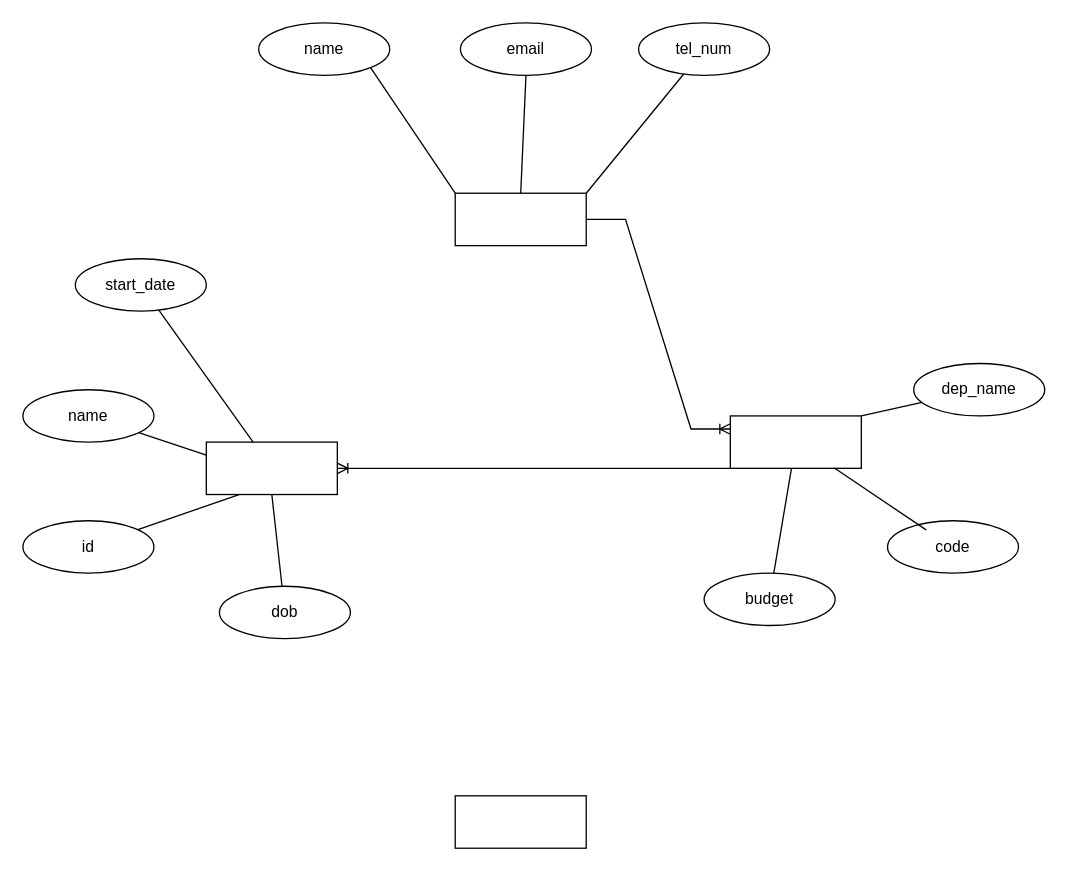
Image size: 1068x871. Some labels were removed from this diagram. Each missing label, with the box of its shape:
Company: (454, 192, 586, 246)
Department: (729, 415, 861, 468)
Employee: (205, 441, 337, 495)
Entity: (454, 795, 586, 848)
